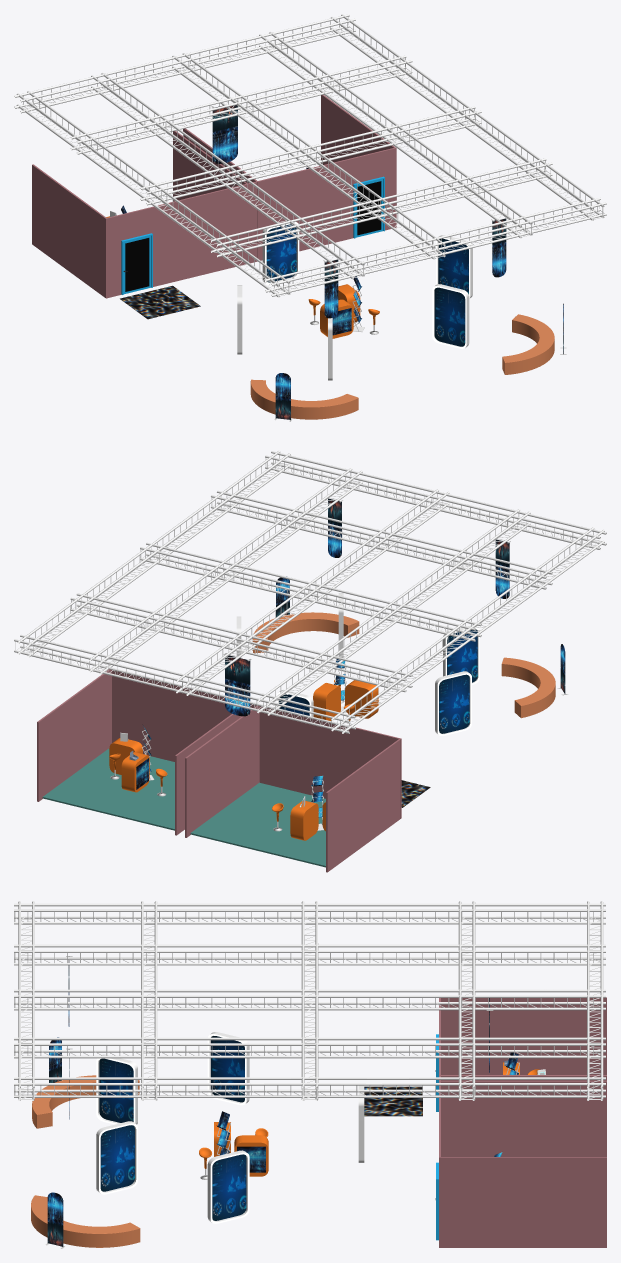
Rendered from HomeConsulting Assets.fbx.
3 views of the same model, one above another, from view 1: azimuth 30°, elevation 25°; view 2: azimuth 150°, elevation 25°; view 3: azimuth 270°, elevation 25° (orthographic). The views are drawn at different scales.
Parts seen in each view (by area): view 1: Truss, Door, Banner_Design, Logo, DisplayBanner, GFX; view 2: Door, Truss, Logo, Banner_Design, DisplayBanner, DisplayHolder; view 3: Truss, Door, Banner_Design, Logo, DisplayBanner, GFX, DisplayHolder.
Boxes of the visible parts, x1,y1,x2,y2 form: Truss: [14, 14, 606, 297]; Door: [32, 94, 396, 298]; Banner_Design: [237, 221, 472, 380]; Logo: [106, 216, 554, 419]; DisplayBanner: [211, 100, 566, 421]; GFX: [120, 285, 200, 319]; Door: [37, 669, 401, 872]; Truss: [14, 450, 606, 733]; Logo: [109, 612, 555, 840]; Banner_Design: [236, 593, 479, 735]; DisplayBanner: [223, 497, 567, 716]; DisplayHolder: [142, 659, 346, 830]; Truss: [14, 901, 605, 1100]; Door: [435, 997, 606, 1247]; Banner_Design: [96, 1032, 364, 1223]; Logo: [31, 1062, 539, 1247]; DisplayBanner: [45, 956, 493, 1248]; GFX: [364, 1086, 422, 1116]; DisplayHolder: [216, 1052, 519, 1156].
Bounding box in the file's own units: 1505 × 665 × 2038.
